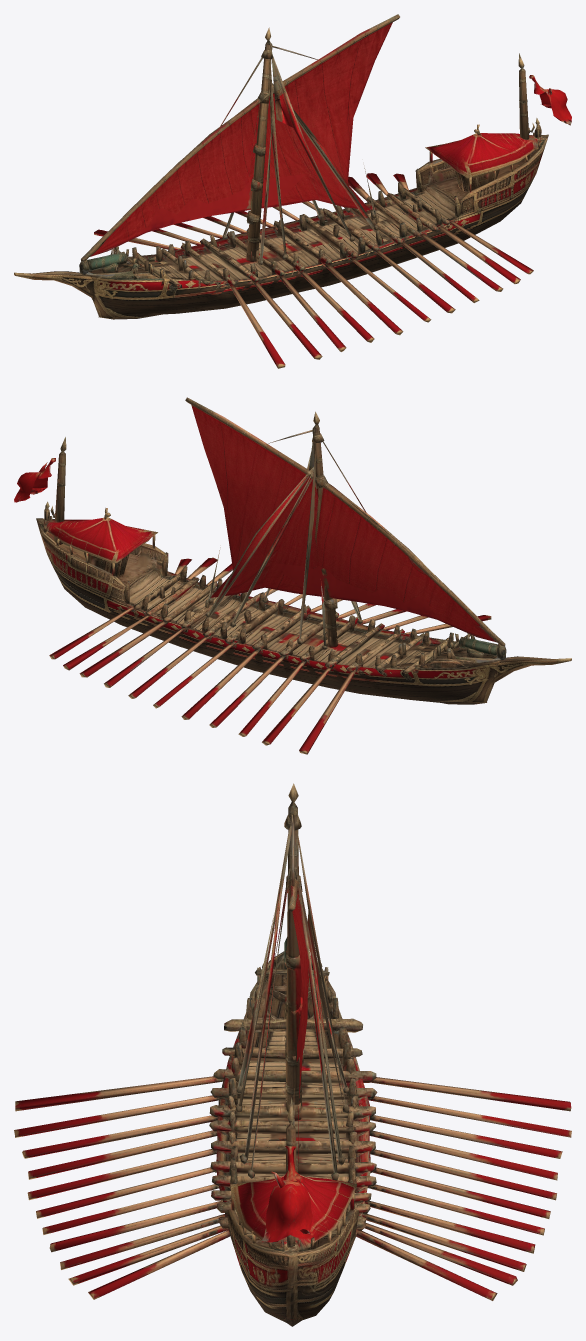
The model's file is Meshy_AI_model.glb.
The picture shows the model from 3 angles, top to bottom: view 1: azimuth 30°, elevation 25°; view 2: azimuth 150°, elevation 25°; view 3: azimuth 270°, elevation 25°; orthographic projection. The views are drawn at different scales.
Size of the model in its own units: 1 by 0.4633 by 0.5792.
Materials: 1 (1 with a texture image).
